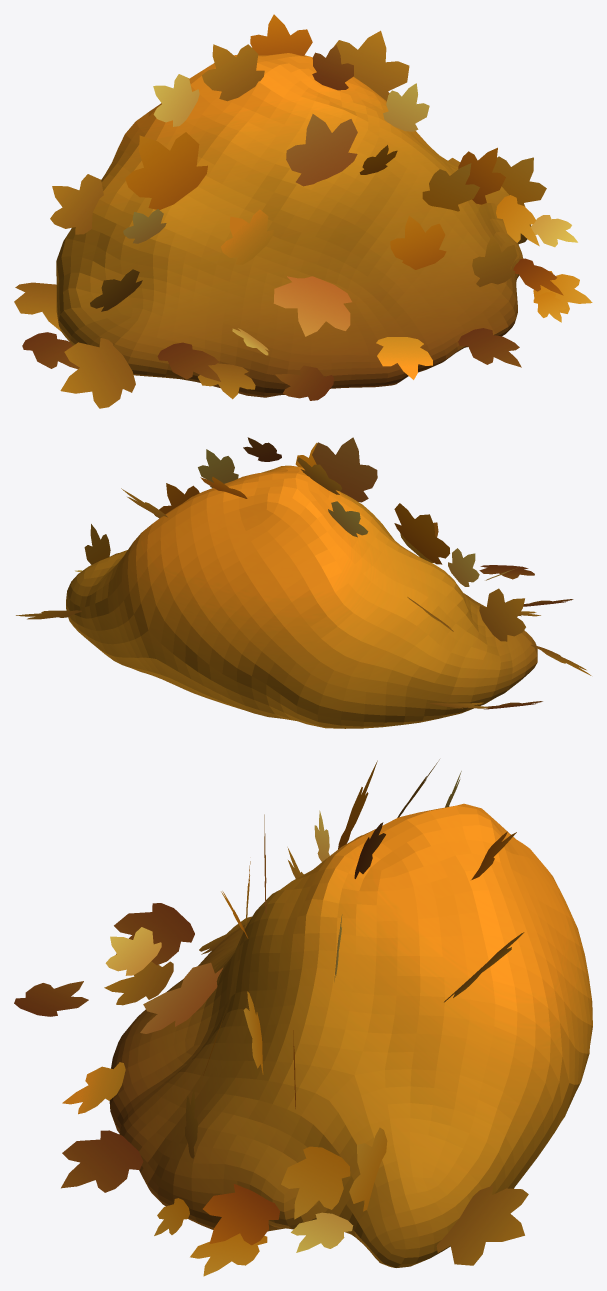
The model's file is PileOfLeaves.fbx.
The picture shows the model from 3 angles, top to bottom: view 1: azimuth 30°, elevation 25°; view 2: azimuth 150°, elevation 25°; view 3: azimuth 270°, elevation 25°; orthographic projection. The views are drawn at different scales.
Parts seen in each view (by area): view 1: PileOfLeaves5:Group48410, PileOfLeaves2:Hoja2, PileOfLeaves3:Hoja20, PileOfLeaves2:Hoja3, PileOfLeaves3:Hoja3, PileOfLeaves4:Hoja21, PileOfLeaves2:Hoja5, PileOfLeaves4:Hoja6, PileOfLeaves2:Hoja13, PileOfLeaves2:Hoja9, PileOfLeaves2:Hoja10, PileOfLeaves4:Hoja8 (+21 smaller); view 2: PileOfLeaves5:Group48410, PileOfLeaves2:Hoja3, PileOfLeaves2:Hoja2, PileOfLeaves2:Hoja6, PileOfLeaves2:Hoja8, PileOfLeaves2:Hoja12, PileOfLeaves4:Hoja8, PileOfLeaves3:Hoja23, PileOfLeaves2:Hoja5, PileOfLeaves2:Hoja1, PileOfLeaves2:Hoja7, PileOfLeaves3:Hoja1; view 3: PileOfLeaves5:Group48410, PileOfLeaves4:Hoja20, PileOfLeaves3:Hoja19, PileOfLeaves3:Hoja18, PileOfLeaves3:Hoja16, PileOfLeaves3:Hoja3, PileOfLeaves3:Hoja22, PileOfLeaves3:Hoja1, PileOfLeaves3:Hoja12, PileOfLeaves2:Hoja14, PileOfLeaves3:Hoja17, PileOfLeaves3:Hoja9 (+4 smaller).
Part boxes in pixels (<box>): PileOfLeaves5:Group48410: <box>56,53,530,397</box>; PileOfLeaves2:Hoja2: <box>125,132,207,209</box>; PileOfLeaves3:Hoja20: <box>60,338,135,408</box>; PileOfLeaves2:Hoja3: <box>286,114,357,186</box>; PileOfLeaves3:Hoja3: <box>273,276,351,336</box>; PileOfLeaves4:Hoja21: <box>334,30,409,101</box>; PileOfLeaves2:Hoja5: <box>202,44,264,101</box>; PileOfLeaves4:Hoja6: <box>50,174,103,234</box>; PileOfLeaves2:Hoja13: <box>390,215,446,269</box>; PileOfLeaves2:Hoja9: <box>221,209,273,264</box>; PileOfLeaves2:Hoja10: <box>422,163,479,211</box>; PileOfLeaves4:Hoja8: <box>153,74,199,126</box>; PileOfLeaves5:Group48410: <box>66,465,537,728</box>; PileOfLeaves2:Hoja3: <box>312,437,377,502</box>; PileOfLeaves2:Hoja2: <box>394,503,449,564</box>; PileOfLeaves2:Hoja6: <box>479,588,525,641</box>; PileOfLeaves2:Hoja8: <box>198,449,238,487</box>; PileOfLeaves2:Hoja12: <box>448,548,479,586</box>; PileOfLeaves4:Hoja8: <box>328,501,368,537</box>; PileOfLeaves3:Hoja23: <box>84,524,110,564</box>; PileOfLeaves2:Hoja5: <box>297,457,341,494</box>; PileOfLeaves2:Hoja1: <box>243,437,281,461</box>; PileOfLeaves2:Hoja7: <box>159,483,199,514</box>; PileOfLeaves3:Hoja1: <box>479,565,534,579</box>; PileOfLeaves5:Group48410: <box>109,803,592,1267</box>; PileOfLeaves4:Hoja20: <box>436,1185,528,1265</box>; PileOfLeaves3:Hoja19: <box>61,1130,143,1192</box>; PileOfLeaves3:Hoja18: <box>281,1146,350,1219</box>; PileOfLeaves3:Hoja16: <box>203,1184,279,1245</box>; PileOfLeaves3:Hoja3: <box>140,962,223,1033</box>; PileOfLeaves3:Hoja22: <box>114,903,194,965</box>; PileOfLeaves3:Hoja1: <box>14,981,88,1016</box>; PileOfLeaves3:Hoja12: <box>105,927,161,975</box>; PileOfLeaves2:Hoja14: <box>104,961,173,1005</box>; PileOfLeaves3:Hoja17: <box>190,1233,267,1276</box>; PileOfLeaves3:Hoja9: <box>62,1062,125,1114</box>.
Bounding box in the file's own units: 4.23 × 2.03 × 3.01.
